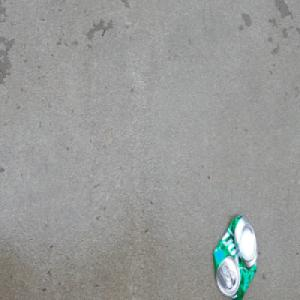SodaCan: (211, 212, 259, 300)
